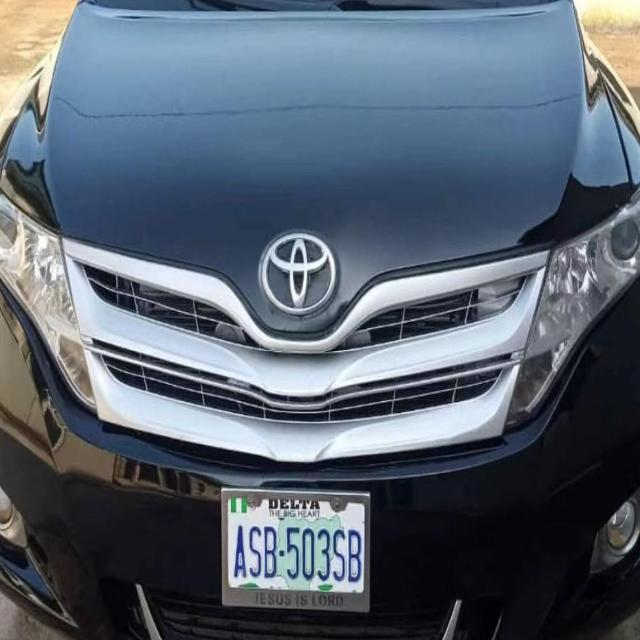Nigerian License Plate - vdataset benjamin-daria: (219, 488, 370, 614)
